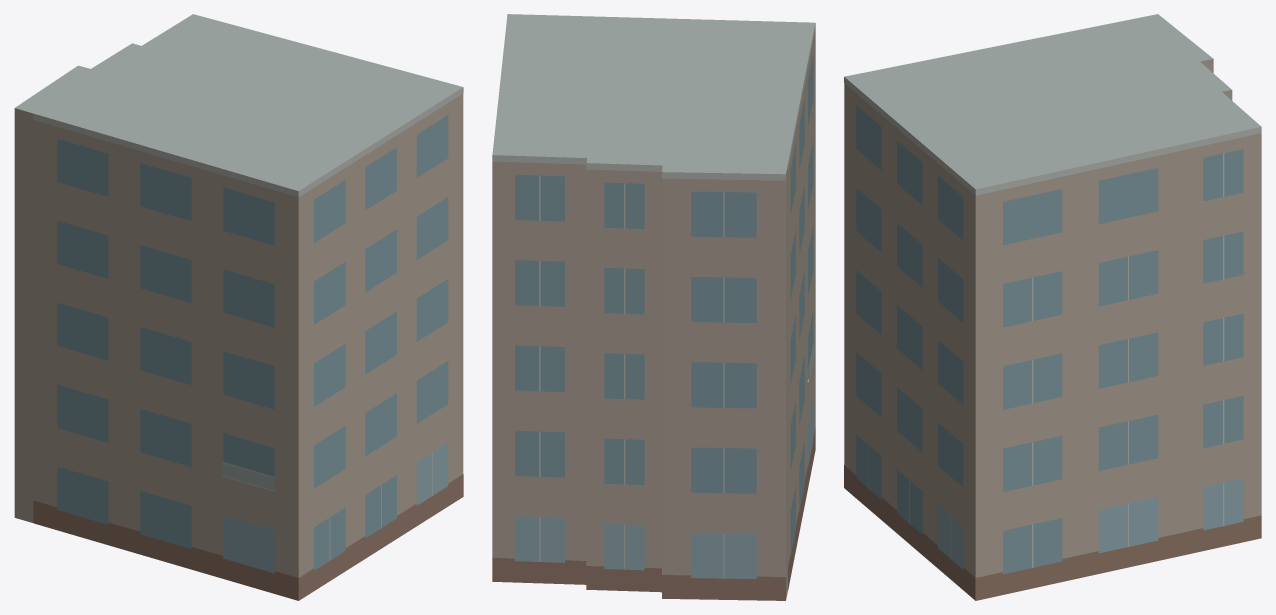
Rendered from survey-upis-32730059.glb.
3 renders of one model, left to right at view 1: azimuth 30°, elevation 25°; view 2: azimuth 150°, elevation 25°; view 3: azimuth 270°, elevation 25°, orthographic. The views are drawn at different scales.
Visible parts, largest first — view 1: survey-upis-32730059.tmp; view 2: survey-upis-32730059.tmp; view 3: survey-upis-32730059.tmp.
Part boxes in pixels (box(x1,y1,x2,y2)): survey-upis-32730059.tmp: box(14, 14, 463, 600); survey-upis-32730059.tmp: box(492, 14, 815, 600); survey-upis-32730059.tmp: box(844, 14, 1261, 600).
Bounding box in the file's own units: 14.78 × 16.15 × 14.87.
